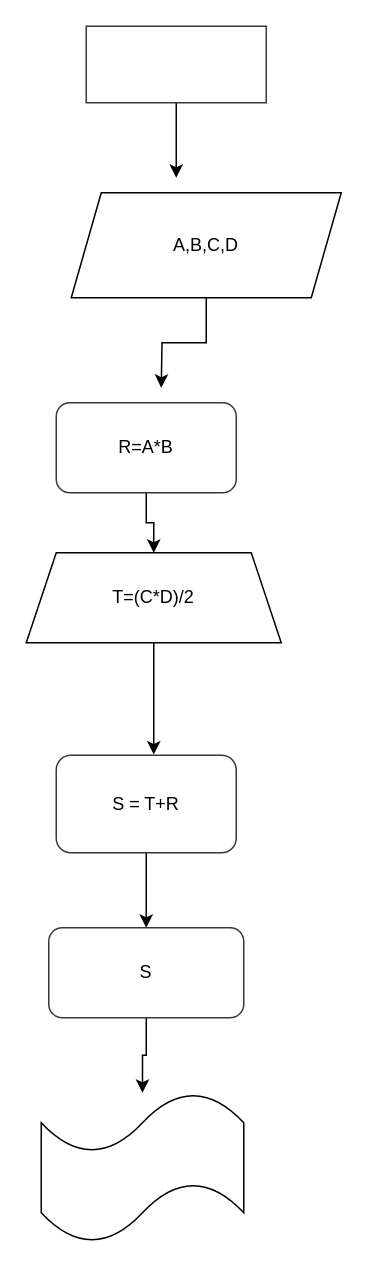
The diagram is 368 pixels wide and 1269 high, and some of its shapes have lost their labels. Each missing label, with the centre of its shape:
"Fin" goes at pixel 142 1167.
"Inicio" goes at pixel 175 64.
